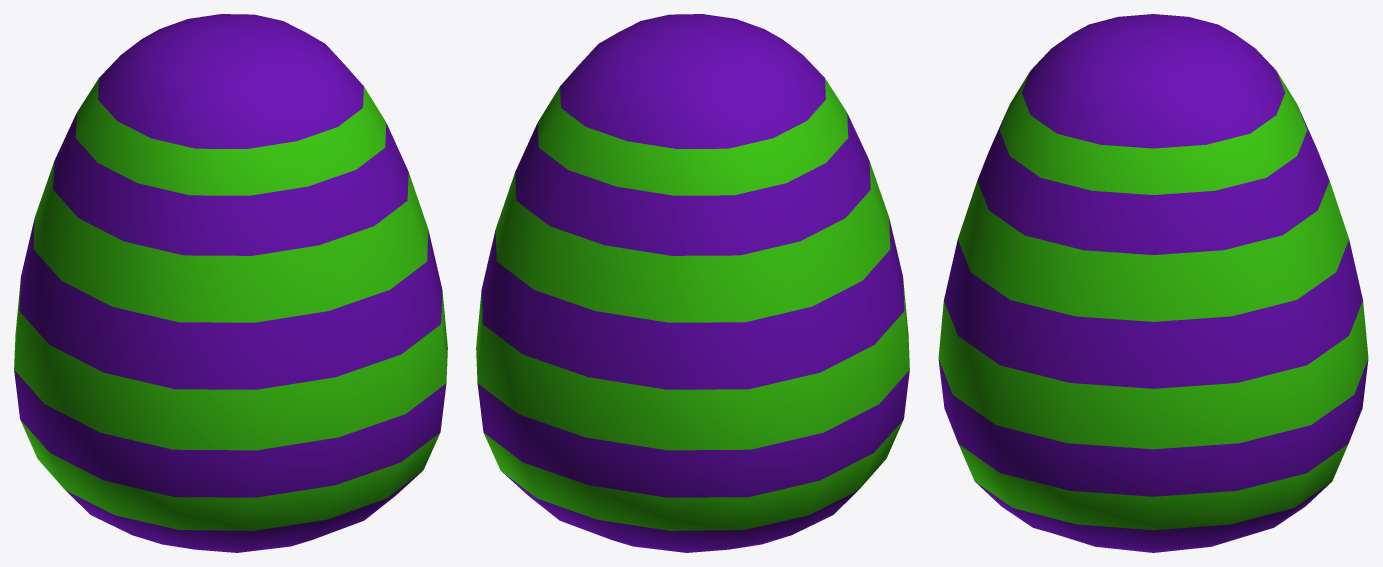
The model's file is huevouno.fbx.
3 views of the same model, side by side, from view 1: azimuth 30°, elevation 25°; view 2: azimuth 150°, elevation 25°; view 3: azimuth 270°, elevation 25° (orthographic).
Visible parts, largest first — view 1: Cube; view 2: Cube; view 3: Cube.
Boxes of the visible parts, x1=… form: Cube: x1=14, y1=14, x2=447, y2=552; Cube: x1=476, y1=14, x2=909, y2=552; Cube: x1=938, y1=14, x2=1368, y2=552.
Size of the model in its own units: 110 by 138 by 110.
